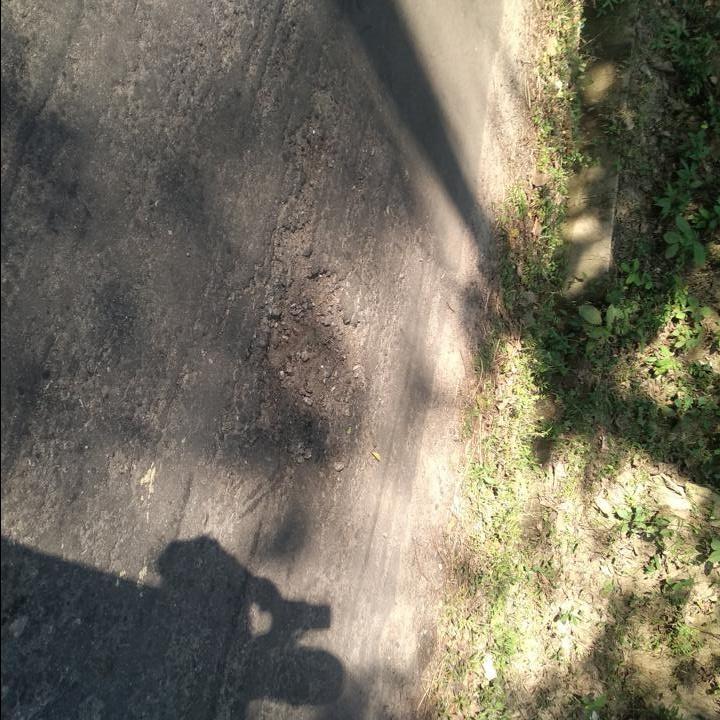pothole: (249, 213, 373, 432)
